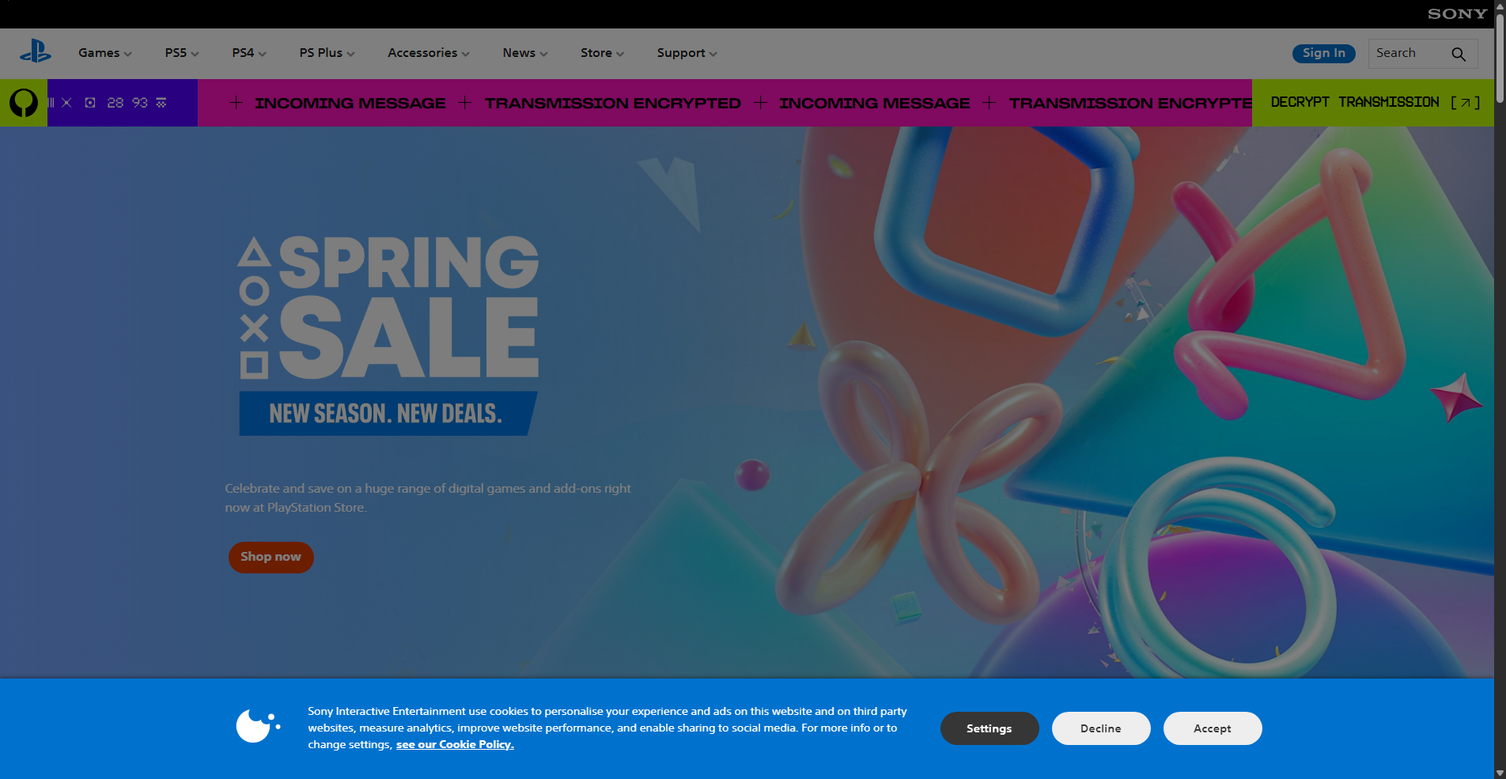button: (0, 79, 1494, 127), (223, 491, 640, 532), (940, 704, 1262, 754), (927, 718, 1094, 779), (225, 718, 391, 779), (401, 718, 567, 779), (576, 718, 742, 779), (752, 718, 918, 779), (1103, 718, 1269, 779), (384, 28, 473, 79), (223, 491, 311, 532), (653, 28, 721, 79), (1369, 39, 1478, 69), (940, 712, 1039, 745), (1163, 712, 1262, 745), (1052, 712, 1150, 745), (295, 28, 358, 79), (74, 28, 136, 79), (499, 28, 552, 79), (577, 28, 628, 79), (161, 28, 203, 79), (228, 28, 270, 79), (1293, 44, 1356, 63), (8, 0, 146, 2)
link: (0, 127, 1494, 687), (69, 0, 285, 238), (297, 0, 513, 238), (525, 0, 741, 238), (753, 0, 969, 238), (981, 0, 1197, 238), (69, 264, 285, 502), (297, 264, 513, 502), (525, 264, 741, 502), (753, 264, 969, 502), (981, 264, 1197, 502), (1210, 0, 1425, 238), (1210, 264, 1425, 502), (443, 44, 586, 146), (598, 44, 741, 146), (753, 44, 896, 146), (908, 44, 1051, 146), (366, 44, 508, 146), (521, 44, 663, 146), (676, 44, 818, 146), (831, 44, 973, 146), (986, 44, 1128, 146), (517, 155, 741, 178), (960, 155, 1166, 178), (313, 155, 501, 178), (756, 155, 944, 178), (507, 155, 683, 178), (823, 155, 971, 178), (492, 155, 638, 178), (607, 155, 731, 178), (747, 155, 871, 178), (227, 494, 308, 529), (637, 155, 756, 178), (506, 155, 621, 178), (637, 155, 748, 178), (698, 155, 808, 178), (877, 155, 986, 178), (654, 155, 757, 178), (874, 155, 972, 178), (627, 155, 722, 178), (906, 155, 1001, 178), (527, 155, 621, 178), (861, 155, 952, 178), (772, 155, 861, 178), (772, 155, 858, 178), (764, 155, 845, 178), (16, 31, 55, 77), (814, 155, 890, 178), (478, 155, 544, 178), (397, 739, 514, 751), (738, 155, 798, 178), (560, 155, 611, 178)
